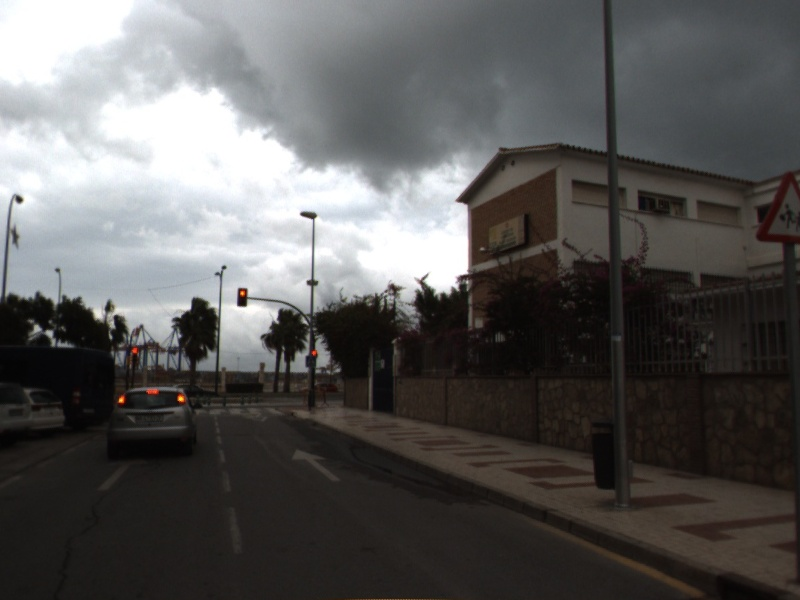STRAIGHT: (95, 455, 151, 492), (289, 446, 343, 483)
